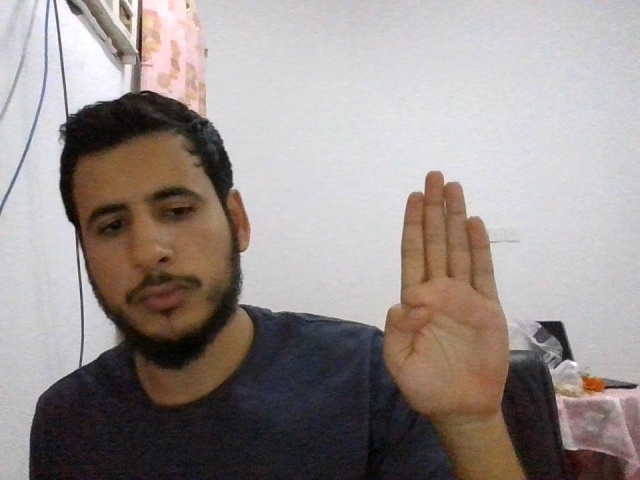Four: (384, 169, 509, 419)
